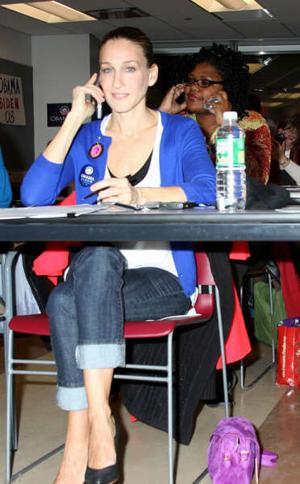person: (21, 27, 218, 482)
